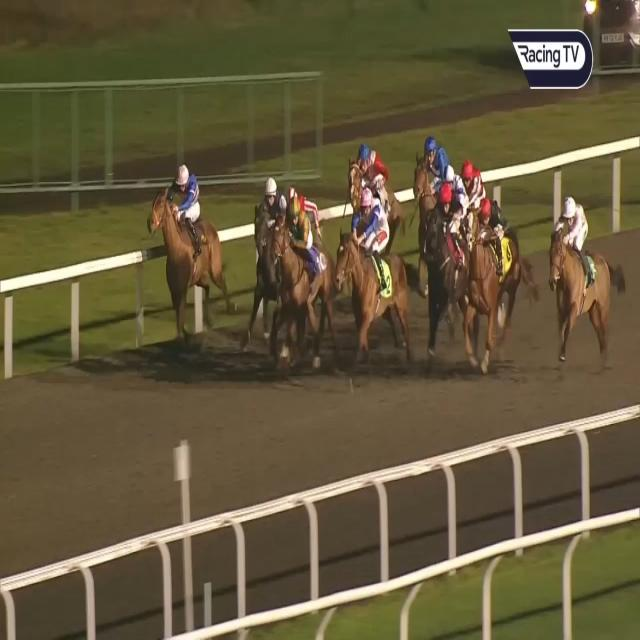horses-racing: (146, 161, 230, 331), (334, 180, 410, 362), (270, 192, 339, 356), (458, 188, 509, 365), (554, 190, 606, 356), (427, 176, 463, 358), (245, 174, 286, 276), (348, 133, 396, 206), (412, 127, 445, 202), (280, 177, 320, 220), (463, 148, 485, 207), (443, 163, 468, 207)
